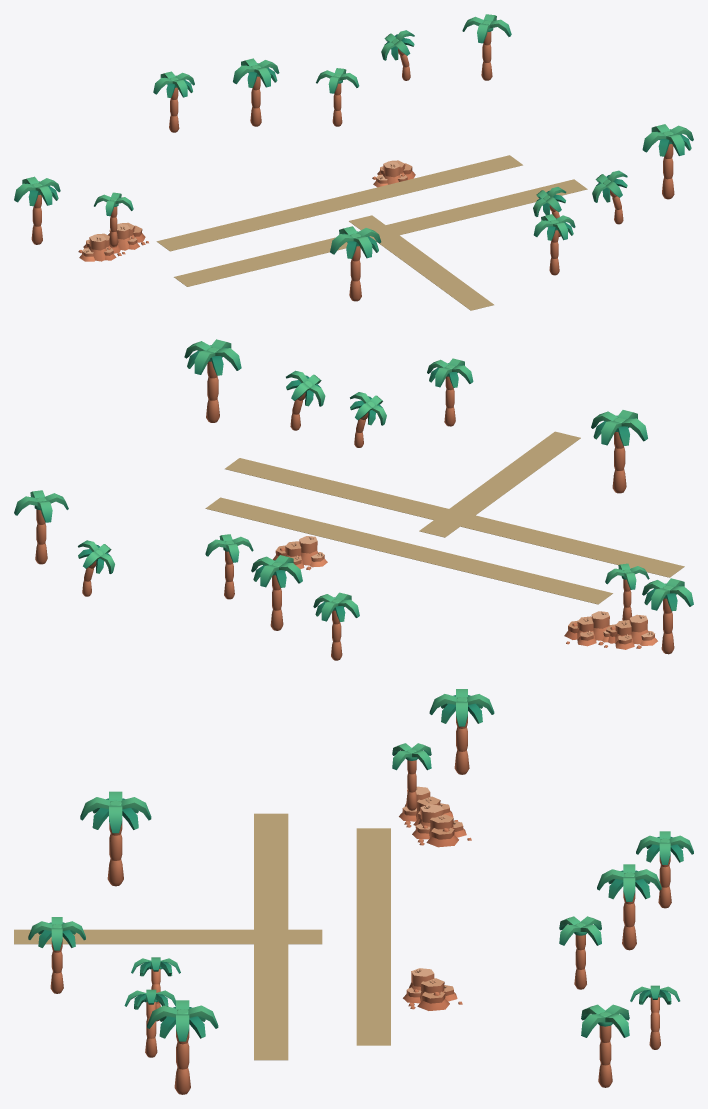
File: timber_scenery.glb
3 views of the same model, one above another, from view 1: azimuth 30°, elevation 25°; view 2: azimuth 150°, elevation 25°; view 3: azimuth 270°, elevation 25° (orthographic). The views are drawn at different scales.
Visible parts, largest first — view 1: Packed-sand lane.007, Packed-sand lane.004, Packed-sand lane.006, Packed-sand lane.005, palm-detailed-straight.003, palm-detailed-straight.006, palm-detailed-straight.005, palm-detailed-straight.002, palm-straight.006, palm-detailed-straight.004, palm-detailed-straight.001, palm-detailed-bend.006 (+7 smaller); view 2: Packed-sand lane.007, Packed-sand lane.004, Packed-sand lane.006, Packed-sand lane.005, palm-detailed-straight.003, palm-detailed-straight.006, palm-detailed-straight.005, palm-detailed-straight.002, palm-straight.006, palm-detailed-straight.001, palm-detailed-straight.004, rocks-sand-a.006 (+7 smaller); view 3: Packed-sand lane.007, Packed-sand lane.004, Packed-sand lane.005, Packed-sand lane.006, palm-detailed-straight.006, palm-detailed-straight.003, palm-detailed-straight.002, palm-detailed-straight.005, palm-straight.006, palm-detailed-straight.004, palm-detailed-straight.001, rocks-sand-a.005 (+7 smaller).
Part boxes in pixels (x1,y1,x2,y2): Packed-sand lane.007: [156, 155, 522, 251]; Packed-sand lane.004: [349, 215, 493, 310]; Packed-sand lane.006: [386, 179, 587, 235]; Packed-sand lane.005: [174, 236, 370, 286]; palm-detailed-straight.003: [642, 124, 693, 199]; palm-detailed-straight.006: [330, 226, 381, 301]; palm-detailed-straight.005: [14, 176, 60, 244]; palm-detailed-straight.002: [233, 58, 279, 126]; palm-straight.006: [462, 14, 511, 80]; palm-detailed-straight.004: [153, 71, 194, 132]; palm-detailed-straight.001: [533, 214, 575, 275]; palm-detailed-bend.006: [592, 170, 627, 224]; Packed-sand lane.007: [205, 497, 612, 604]; Packed-sand lane.004: [419, 431, 580, 537]; Packed-sand lane.006: [225, 458, 448, 519]; Packed-sand lane.005: [460, 515, 684, 577]; palm-detailed-straight.003: [184, 339, 241, 422]; palm-detailed-straight.006: [591, 410, 647, 493]; palm-detailed-straight.005: [642, 578, 693, 654]; palm-detailed-straight.002: [251, 555, 302, 630]; palm-straight.006: [14, 490, 68, 564]; palm-detailed-straight.001: [427, 358, 473, 426]; palm-detailed-straight.004: [313, 592, 359, 660]; rocks-sand-a.006: [604, 614, 657, 649]; Packed-sand lane.007: [356, 828, 390, 1045]; Packed-sand lane.004: [14, 929, 322, 944]; Packed-sand lane.005: [254, 813, 288, 929]; Packed-sand lane.006: [254, 944, 288, 1060]; palm-detailed-straight.006: [80, 791, 151, 886]; palm-detailed-straight.003: [147, 1000, 218, 1094]; palm-detailed-straight.002: [597, 864, 661, 950]; palm-detailed-straight.005: [429, 689, 494, 774]; palm-straight.006: [581, 1004, 629, 1087]; palm-detailed-straight.004: [636, 831, 693, 908]; palm-detailed-straight.001: [28, 917, 85, 993]; rocks-sand-a.005: [412, 804, 471, 847].
Bounding box in the file's own units: 48.11 × 6.31 × 39.68.
5 materials, 4 textured.
